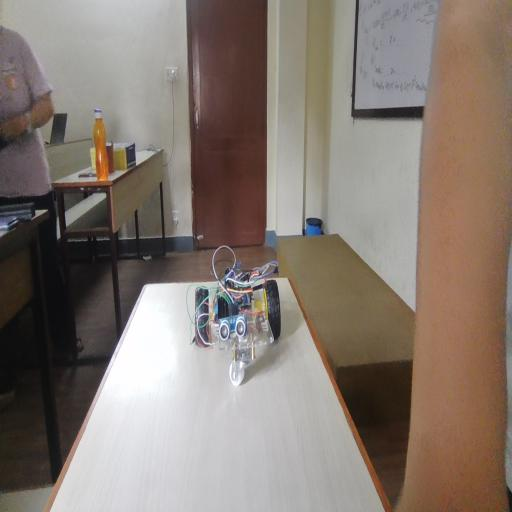Bottle: (84, 104, 118, 171)
car: (184, 288, 283, 362)
